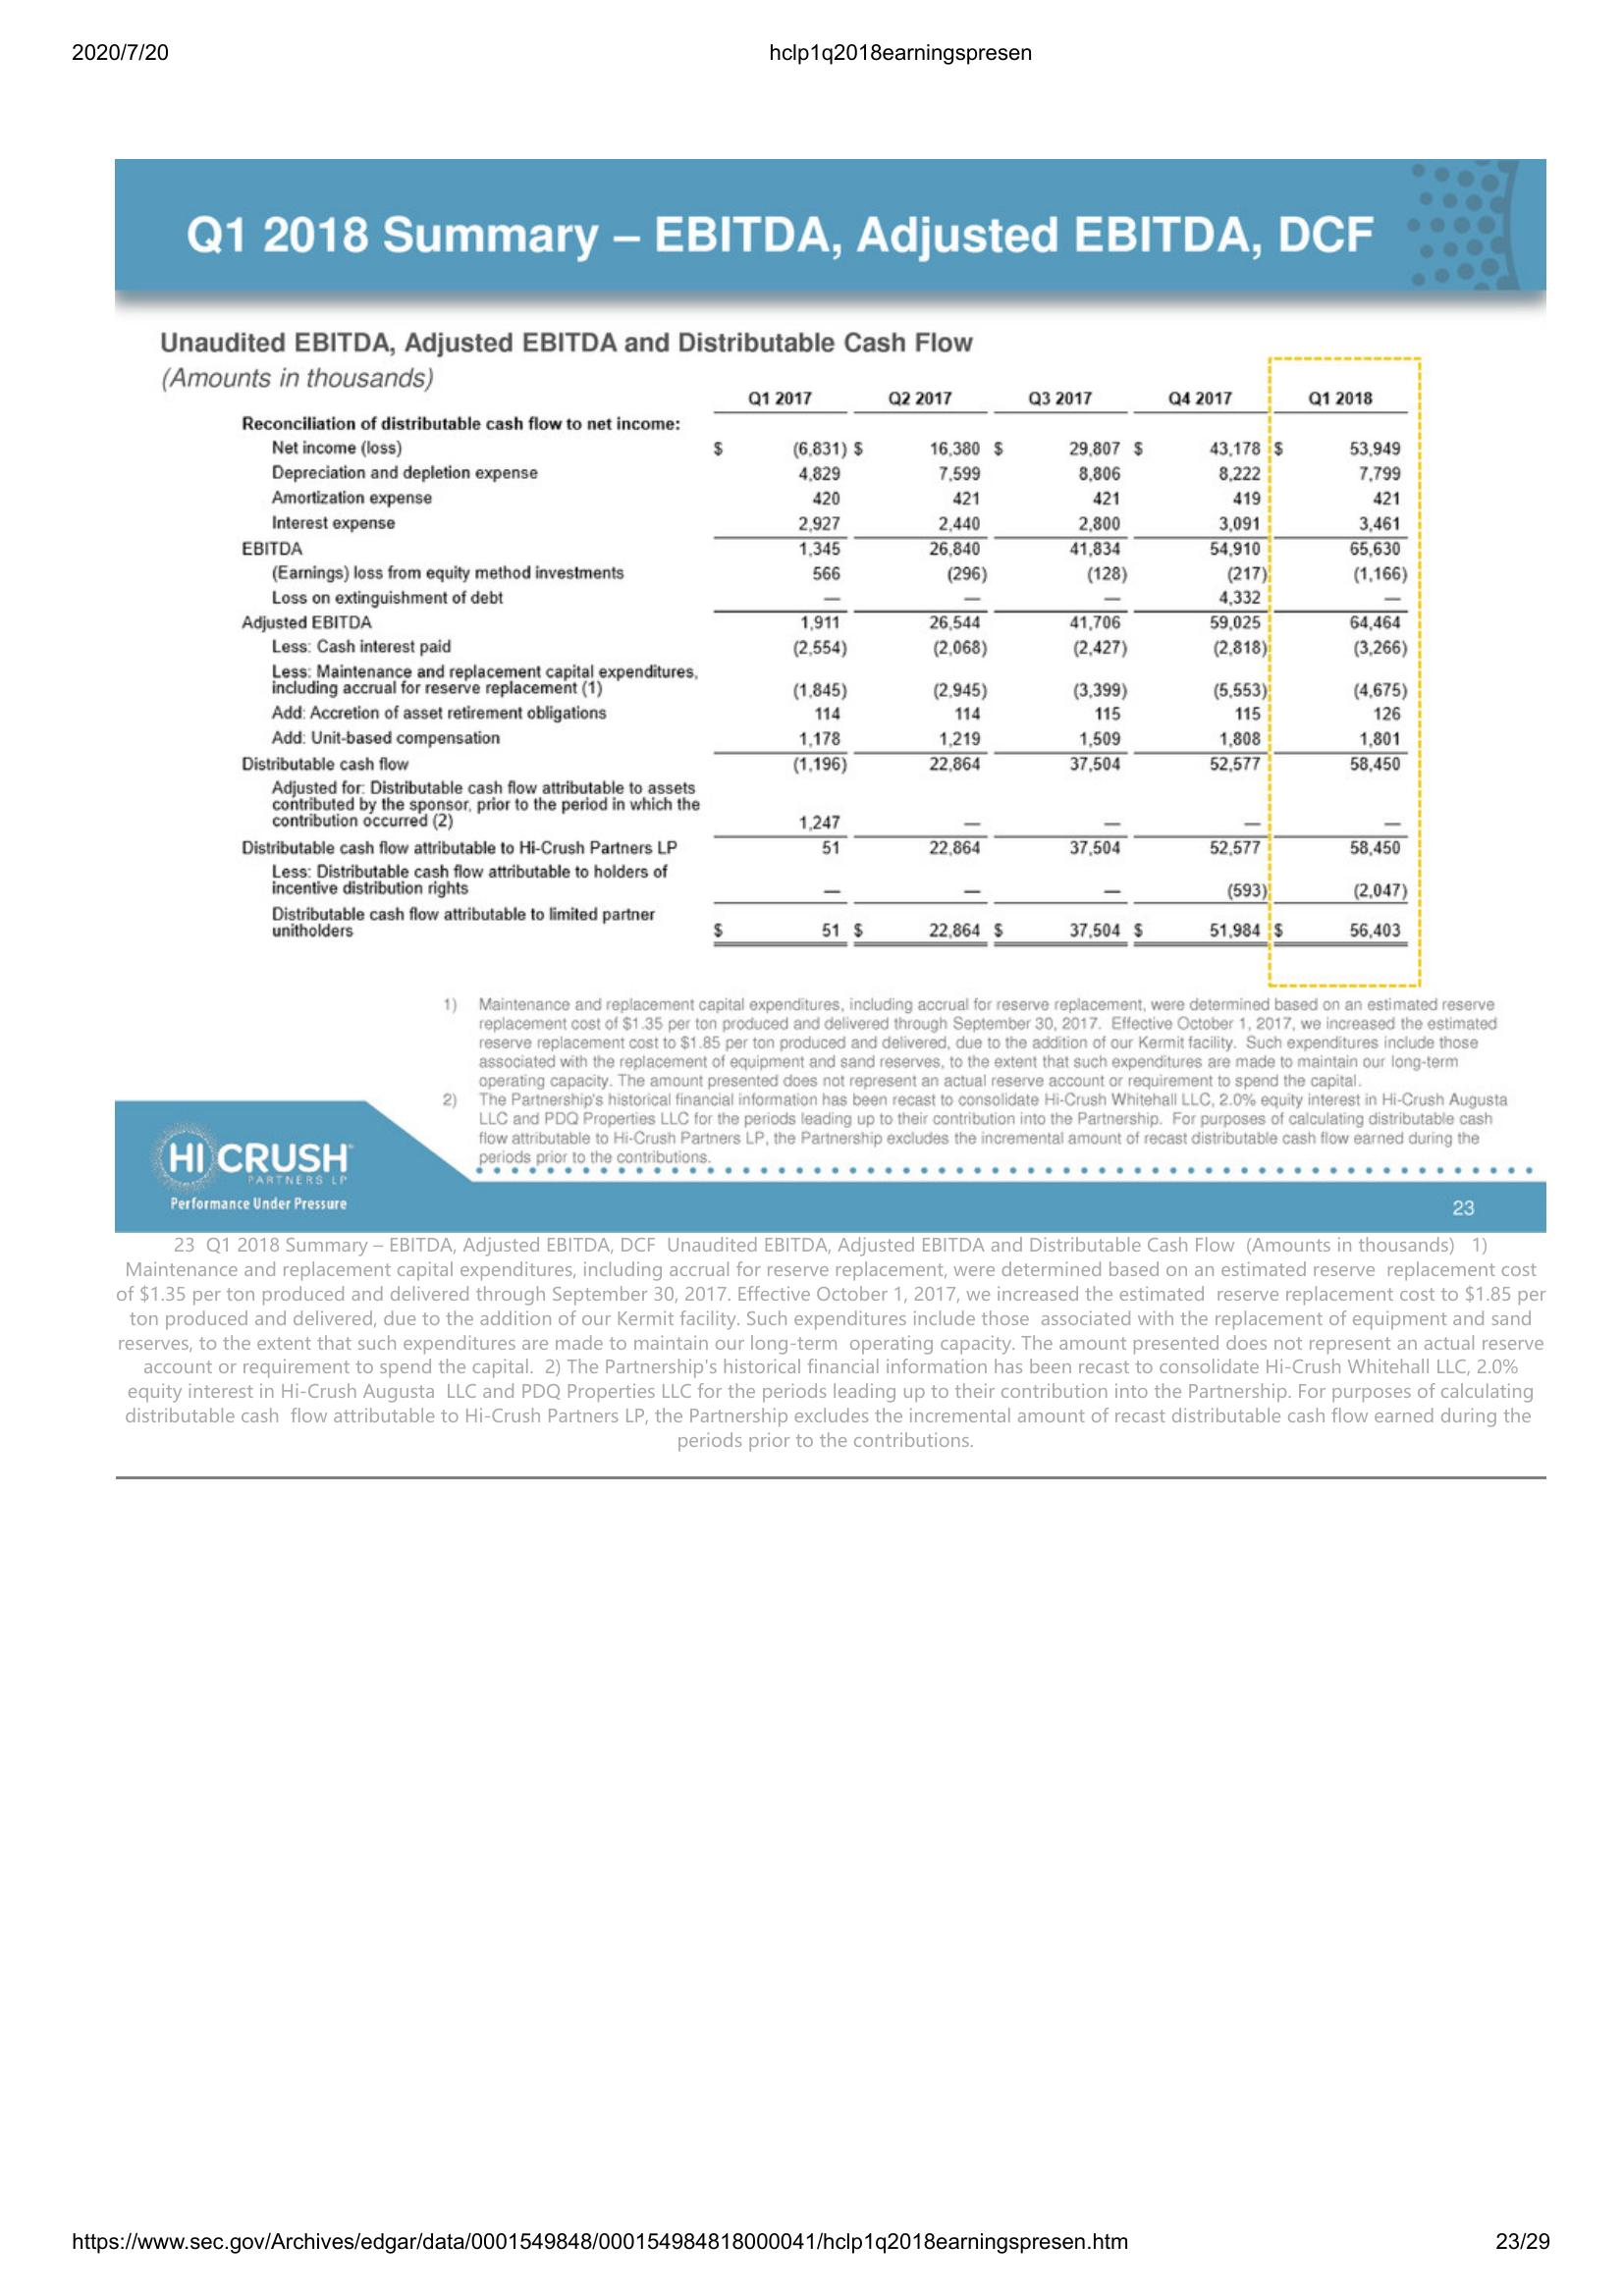table: (230, 383, 1416, 957)
